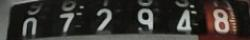digits: (13, 2, 48, 40), (164, 1, 200, 37), (206, 0, 238, 37), (129, 1, 160, 39), (92, 1, 122, 40), (52, 2, 84, 38)
